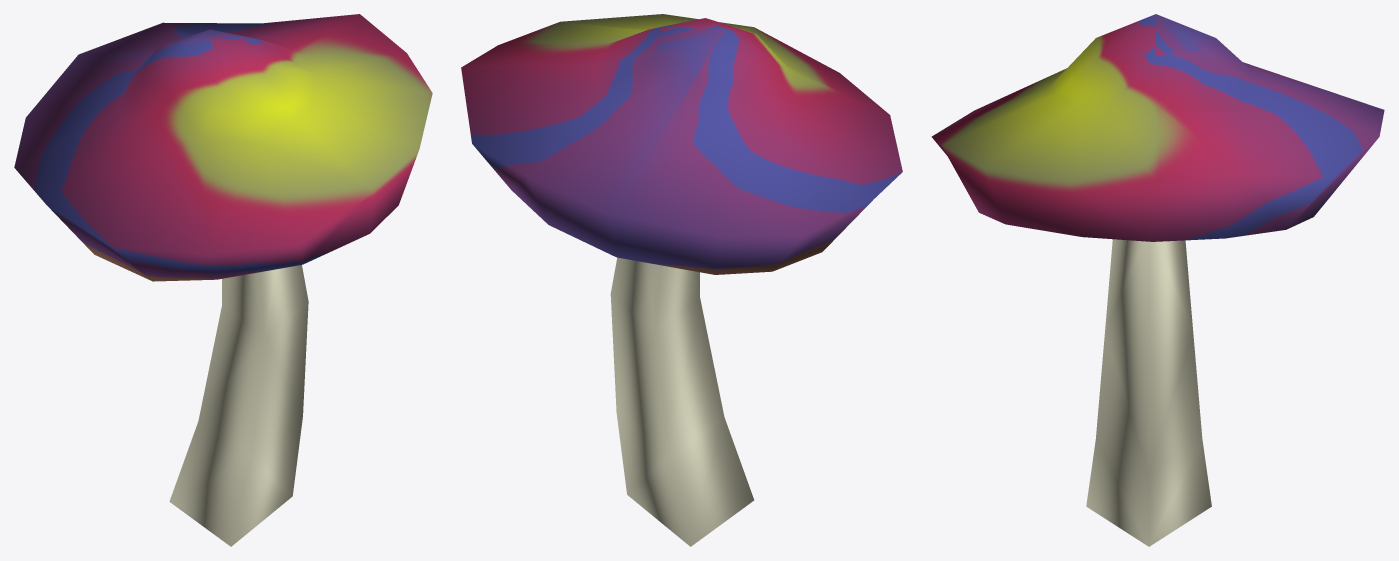
File: MushroomSmall2.FBX
The picture shows the model from 3 angles, left to right: view 1: azimuth 30°, elevation 25°; view 2: azimuth 150°, elevation 25°; view 3: azimuth 270°, elevation 25°; orthographic projection. The views are drawn at different scales.
Parts seen in each view (by area): view 1: MayaMushroom3:polySurface22, MayaMushroom3:polySurface23; view 2: MayaMushroom3:polySurface22, MayaMushroom3:polySurface23; view 3: MayaMushroom3:polySurface22, MayaMushroom3:polySurface23.
Boxes of the visible parts, x1,y1,x2,y2 form: MayaMushroom3:polySurface22: [14, 14, 432, 281]; MayaMushroom3:polySurface23: [169, 265, 308, 546]; MayaMushroom3:polySurface22: [461, 14, 902, 274]; MayaMushroom3:polySurface23: [610, 257, 754, 546]; MayaMushroom3:polySurface22: [931, 14, 1384, 241]; MayaMushroom3:polySurface23: [1086, 239, 1211, 546].
Size of the model in its own units: 37.65 by 47.83 by 40.04.
